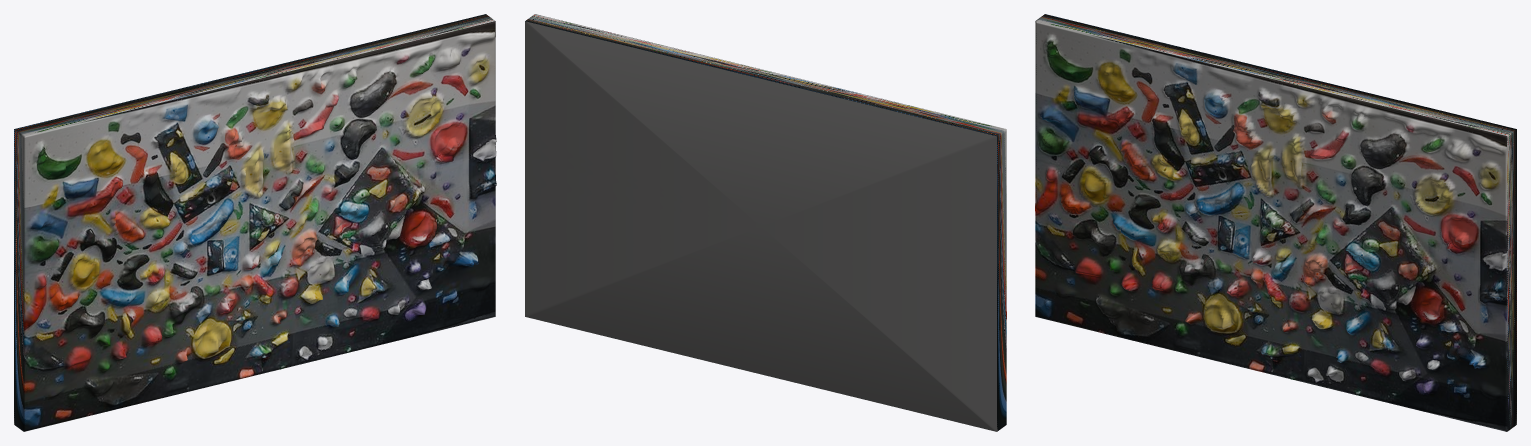
The model's file is photo-wall-relief.glb.
3 views of the same model, side by side, from view 1: azimuth 30°, elevation 25°; view 2: azimuth 150°, elevation 25°; view 3: azimuth 330°, elevation 25° (orthographic).
Visible parts, largest first — view 1: Photo Wall Relief - one watertight stitched solid; view 2: Photo Wall Relief - one watertight stitched solid; view 3: Photo Wall Relief - one watertight stitched solid.
Part boxes in pixels (x1=…): Photo Wall Relief - one watertight stitched solid: x1=14, y1=14, x2=496, y2=431; Photo Wall Relief - one watertight stitched solid: x1=525, y1=14, x2=1006, y2=431; Photo Wall Relief - one watertight stitched solid: x1=1035, y1=14, x2=1516, y2=431.
Bounding box in the file's own units: 3.6 × 2.15 × 0.2095.
1 material, 1 textured.
